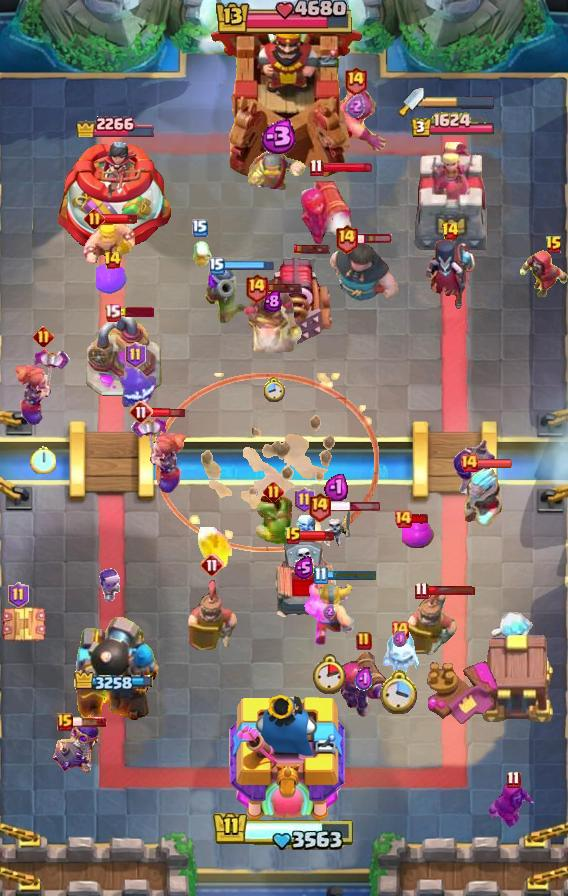bar: (322, 161, 373, 174), (325, 569, 378, 581), (329, 501, 381, 512), (223, 260, 275, 271), (426, 585, 476, 596), (151, 406, 186, 419), (266, 282, 303, 294), (294, 243, 331, 255), (356, 233, 393, 245), (71, 716, 107, 728), (299, 530, 335, 542), (102, 213, 138, 225), (477, 458, 513, 469), (118, 307, 154, 317), (411, 513, 430, 525)
bar-level: (307, 491, 332, 522), (244, 272, 269, 303), (334, 223, 359, 254), (343, 65, 368, 96), (200, 553, 224, 577), (129, 400, 153, 424), (8, 582, 29, 608), (294, 487, 315, 513), (125, 342, 146, 368), (263, 481, 284, 502), (33, 326, 54, 347), (84, 208, 105, 229), (390, 620, 410, 640), (393, 509, 413, 529), (459, 453, 479, 473), (103, 250, 122, 270), (441, 221, 460, 241), (284, 526, 302, 546), (545, 235, 563, 255), (104, 303, 121, 322), (356, 631, 372, 651), (57, 713, 73, 731), (209, 257, 225, 275), (192, 219, 208, 237), (506, 770, 521, 789), (414, 581, 429, 600), (313, 566, 328, 585), (309, 158, 324, 177)
barbarian: (83, 219, 139, 271)
bomber-evolution: (453, 431, 497, 497), (51, 720, 101, 774)
cannoneer-tower: (64, 615, 164, 731)
clock: (380, 668, 420, 714), (312, 654, 346, 694), (30, 445, 56, 474), (262, 376, 285, 402)
dagger-duchess-tower: (412, 140, 494, 256)
dagger-duchess-tower-bar: (424, 95, 496, 109)
electro-spirit: (113, 365, 157, 413)
elite-barbarian: (304, 580, 355, 646)
elixir: (256, 119, 298, 154), (324, 472, 348, 501), (355, 666, 373, 693), (294, 556, 314, 580), (346, 94, 365, 118), (264, 290, 282, 312), (393, 630, 408, 648), (323, 604, 335, 619)
elixir-golem-small: (402, 518, 434, 548), (96, 264, 128, 294)
executioner: (322, 87, 388, 153)
firecracker-evolution: (297, 167, 355, 247), (337, 645, 391, 719)
goblin-brawler: (251, 495, 295, 547)
ice-spirit: (379, 630, 421, 674), (490, 611, 534, 645)
ice-wizard: (460, 466, 506, 530)
king-tower: (205, 11, 363, 181), (223, 689, 345, 826)
king-tower-bar: (212, 811, 356, 853), (213, 0, 355, 38)
knight: (247, 147, 307, 192)
musketeer: (203, 267, 253, 323)
night-witch: (423, 237, 477, 311)
queen-tower: (51, 137, 177, 256)
royal-recruit: (404, 589, 458, 657), (187, 578, 237, 650)
skeleton: (322, 509, 351, 549), (290, 511, 318, 545), (187, 239, 213, 271)
skeleton-evolution: (97, 567, 121, 603)
tesla: (0, 603, 48, 647)
tower-bar: (410, 112, 496, 139), (73, 110, 155, 137), (74, 670, 155, 694)
valkyrie-evolution: (129, 417, 186, 496), (15, 349, 72, 428)
wizard: (518, 249, 568, 301), (487, 781, 539, 829)
